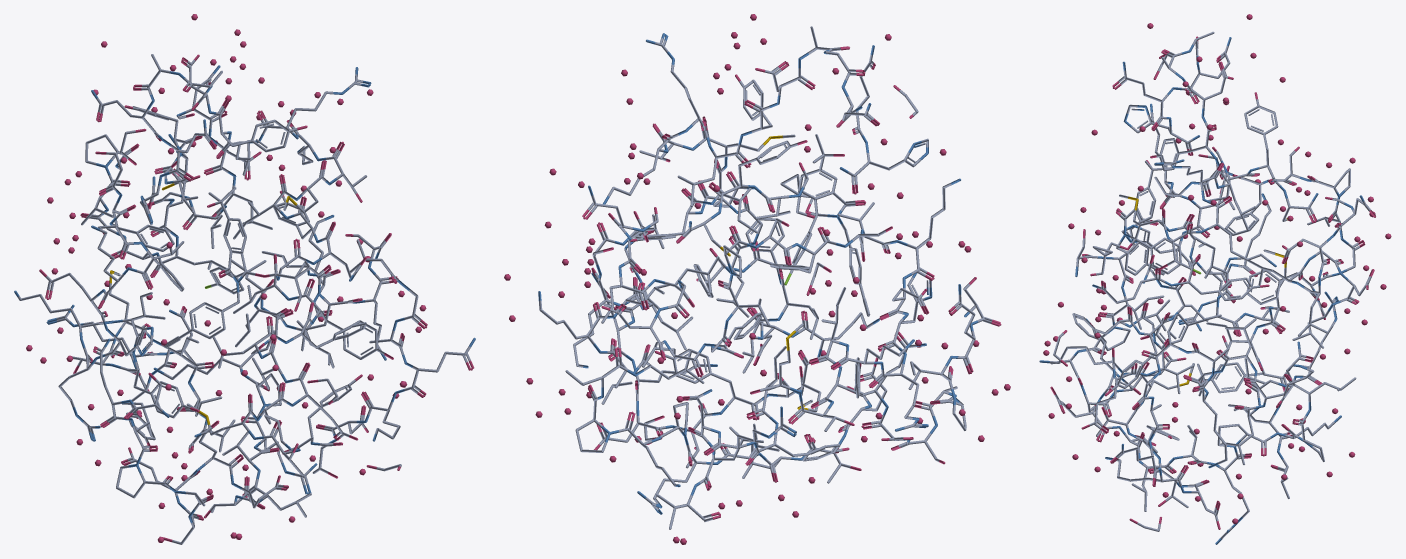
Rendered from 7bmg-redo-1.glb.
3 views of the same model, side by side, from view 1: azimuth 30°, elevation 25°; view 2: azimuth 150°, elevation 25°; view 3: azimuth 270°, elevation 25° (orthographic). The views are drawn at different scales.
Visible parts, largest first — view 1: Test Export; view 2: Test Export; view 3: Test Export.
Part boxes in pixels (bbox=[...]): Test Export: bbox=[14, 14, 475, 544]; Test Export: bbox=[504, 14, 1010, 544]; Test Export: bbox=[1039, 14, 1391, 544].
Bounding box in the file's own units: 33.45 × 39.92 × 28.16.
